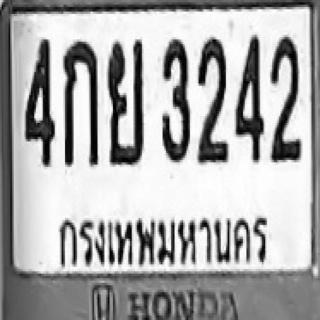A01: (62, 39, 98, 165)
A34: (106, 37, 144, 164)
N02: (197, 35, 228, 162), (270, 34, 300, 161)
N03: (160, 37, 189, 162)
N04: (24, 37, 55, 164), (234, 34, 264, 161)
P04: (54, 208, 280, 276)
